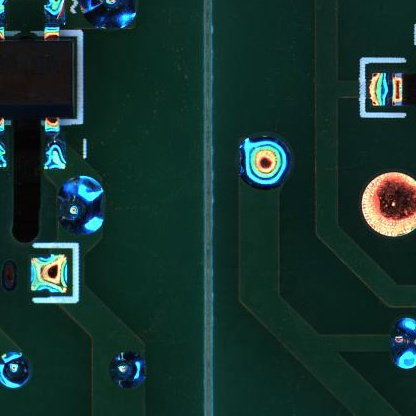spot: (55, 175, 107, 238), (238, 137, 292, 190), (108, 350, 148, 391), (390, 318, 416, 371), (1, 349, 31, 387)
